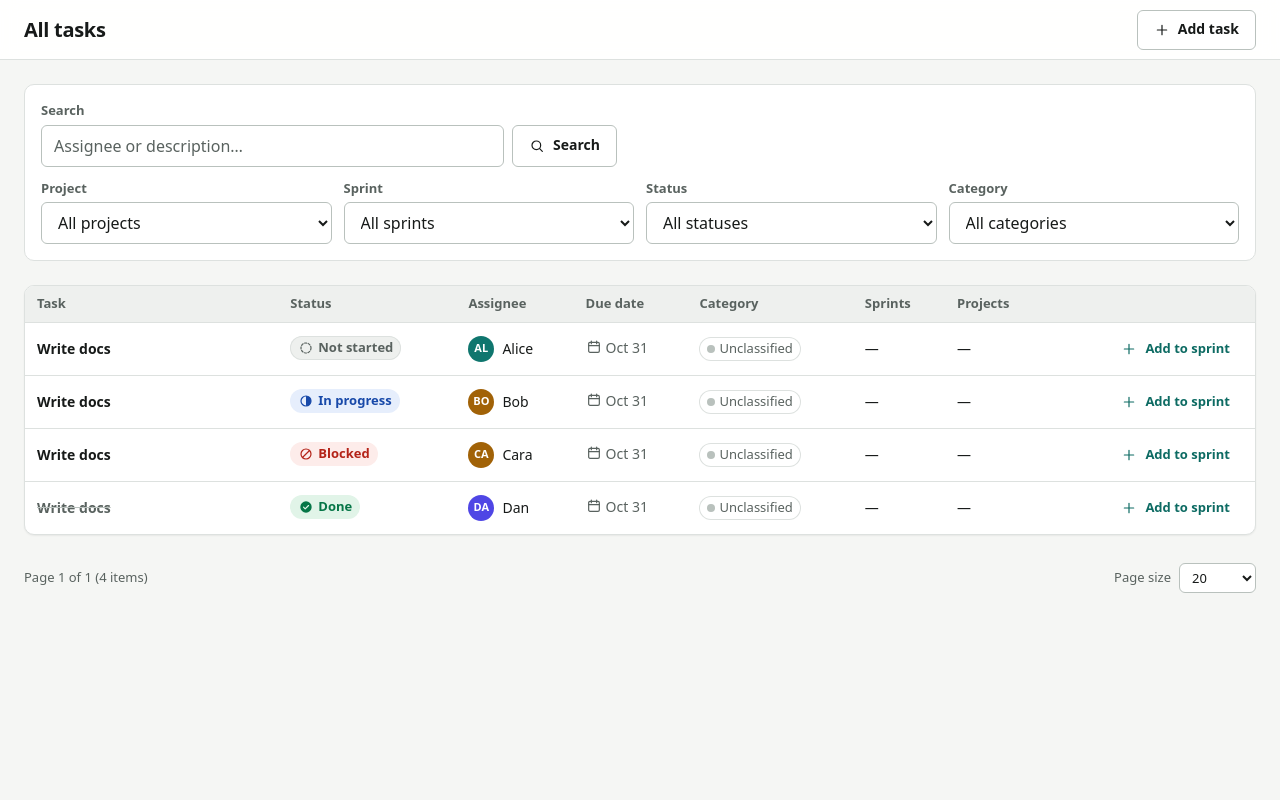
Test case: TaskManager slide-over › creates a task from the Add task panel and announces it
The width and height of the screenshot is (1280, 800).
Expected: the table is shown, [25,286,1255,534]
Click the button "Add task": click(1196, 30) [1137,10,1256,50]
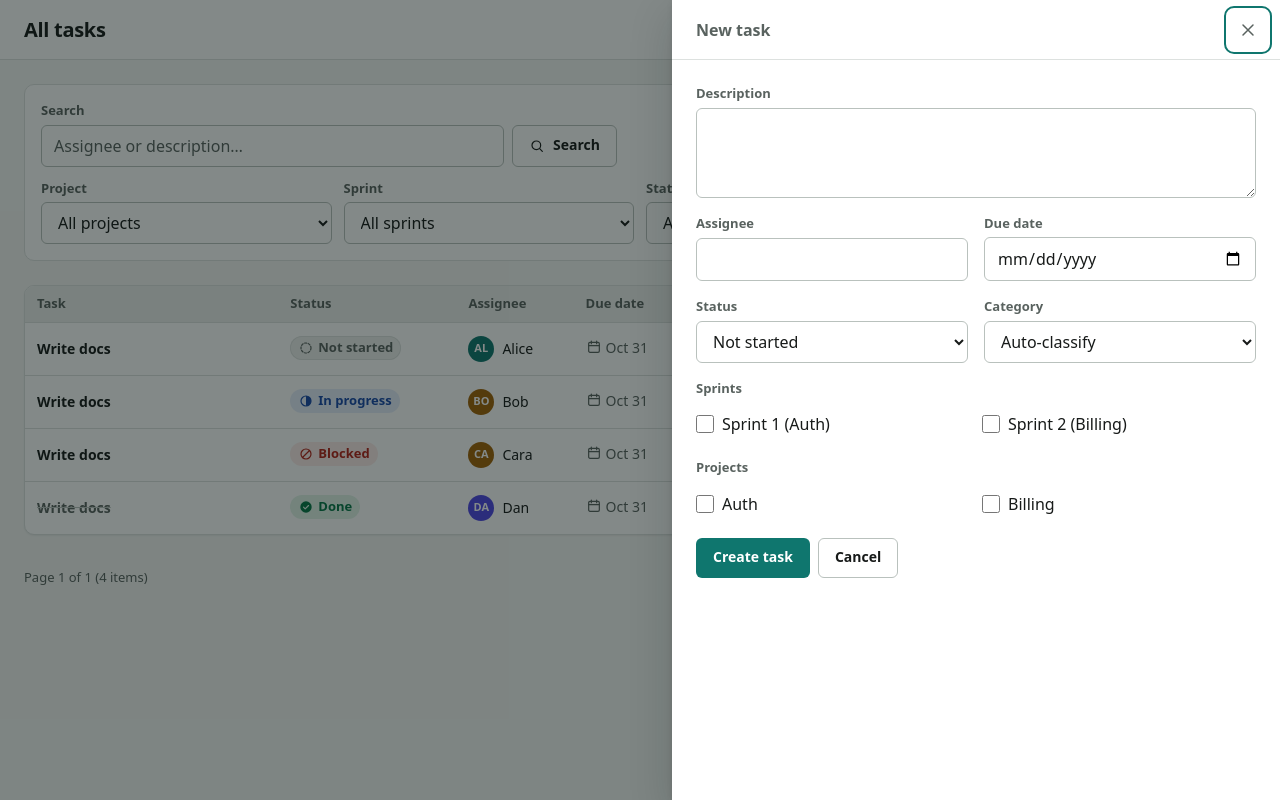
In the text box labelled "Description": (976, 152) [696,108,1256,198], type "Ship it"
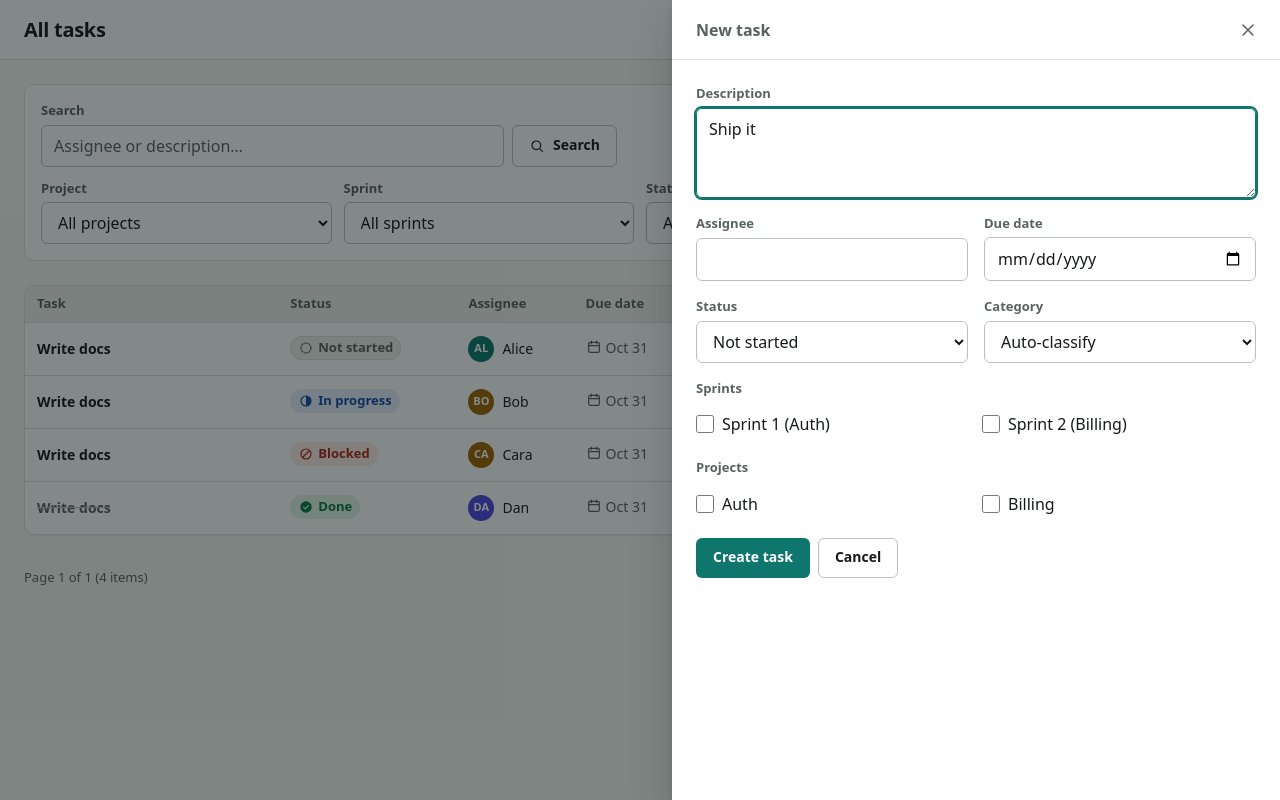
In the field labelled "Assignee": (832, 260) [696,238,968,281], type "Zed"
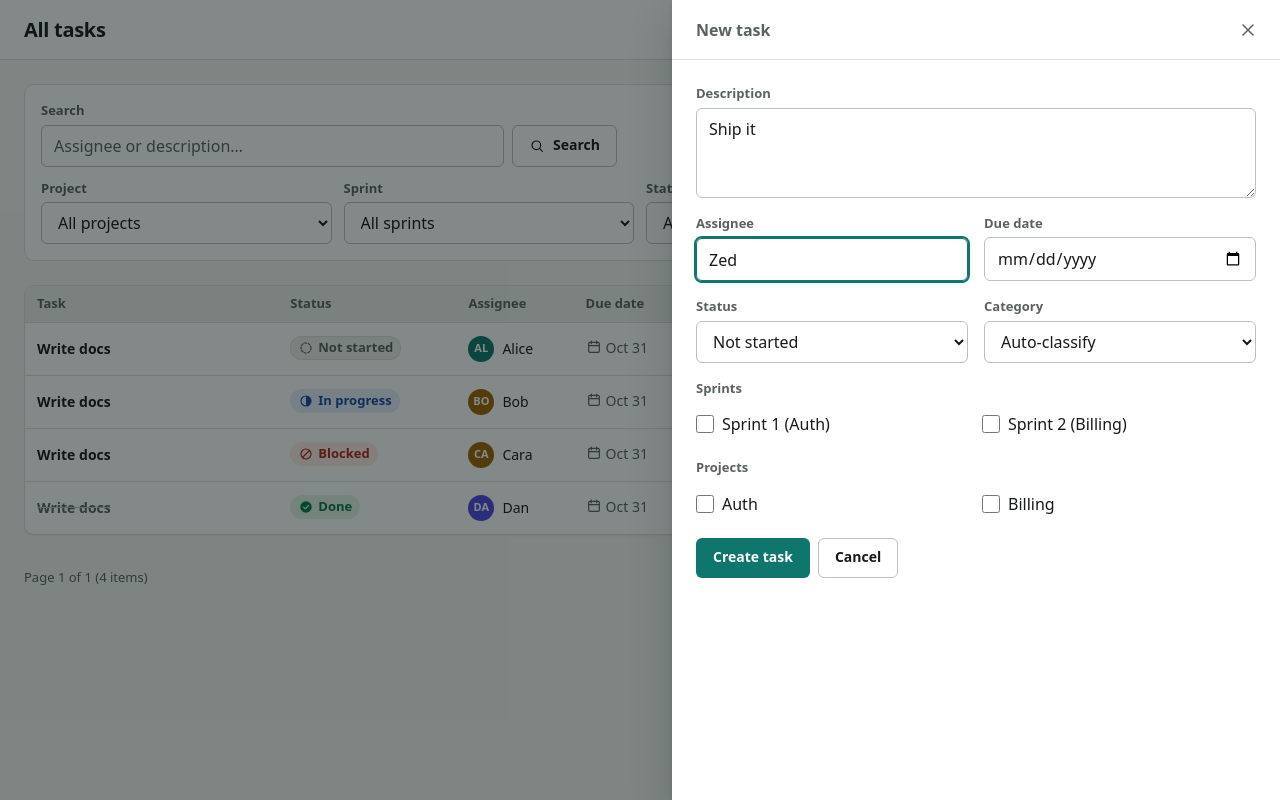
In the date field labelled "Due date": (1120, 259) [984,237,1256,281], type "2026-11-01"
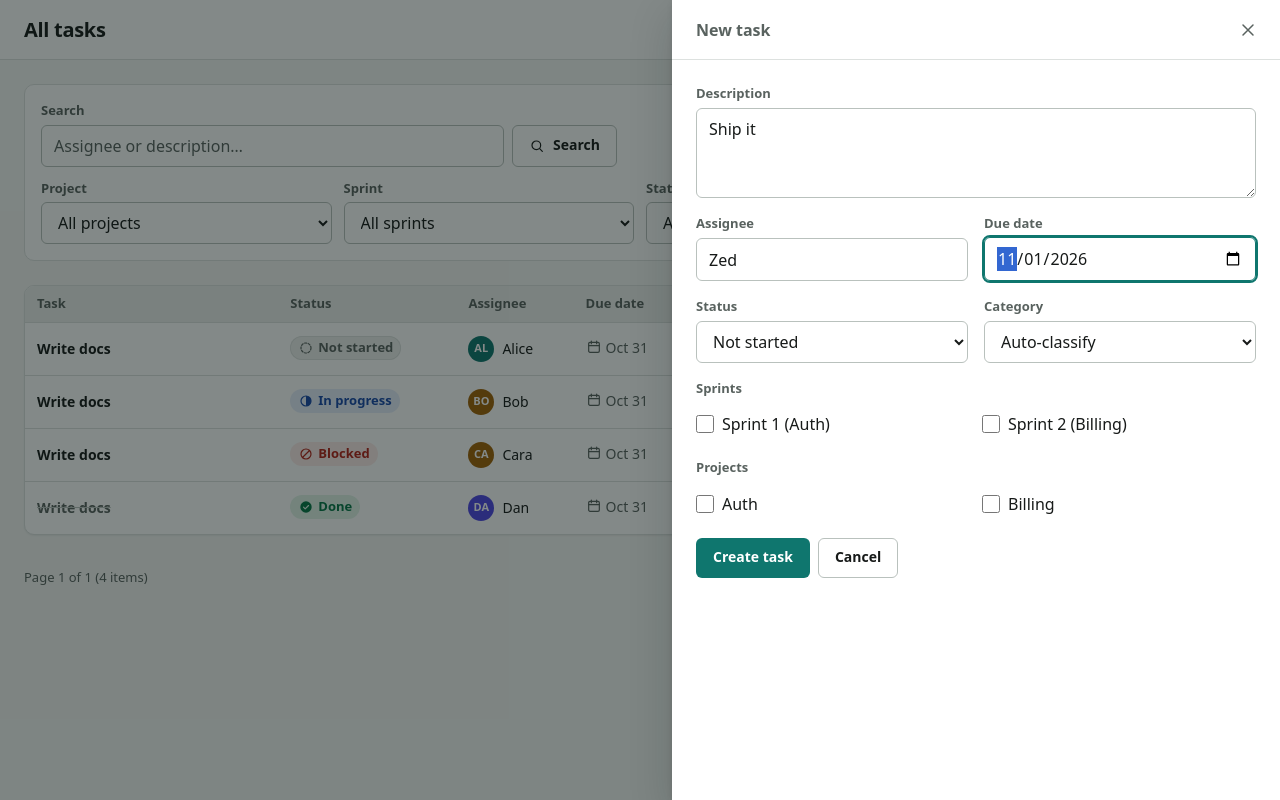
Click the button "Create task": click(753, 558) [696,538,810,578]
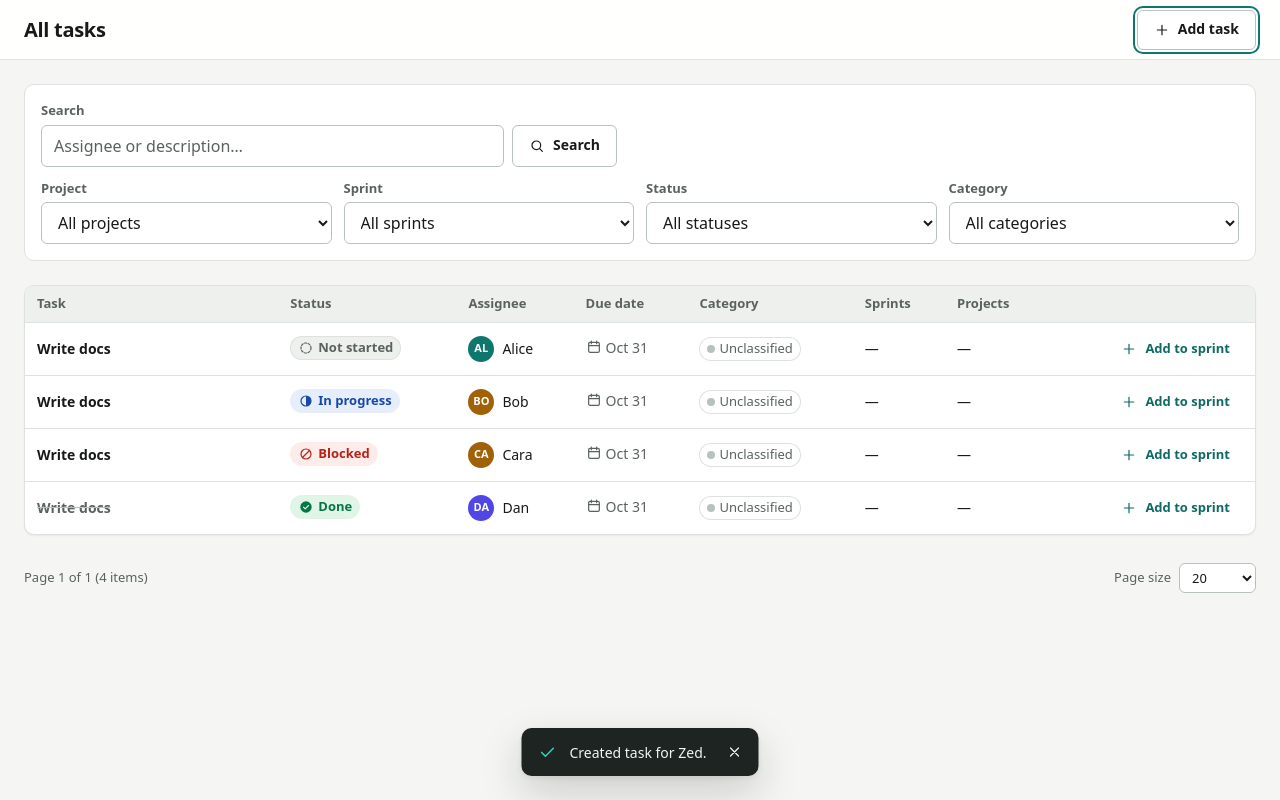
Expected: the dialog is gone
